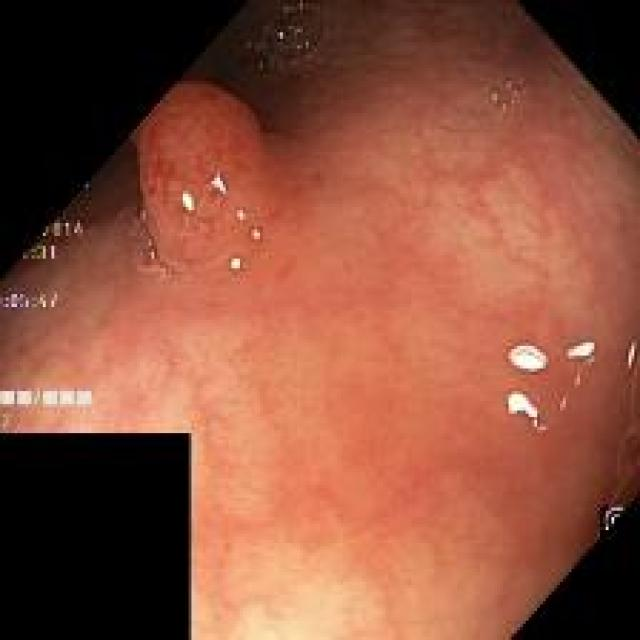Polyps: (131, 82, 272, 274)
